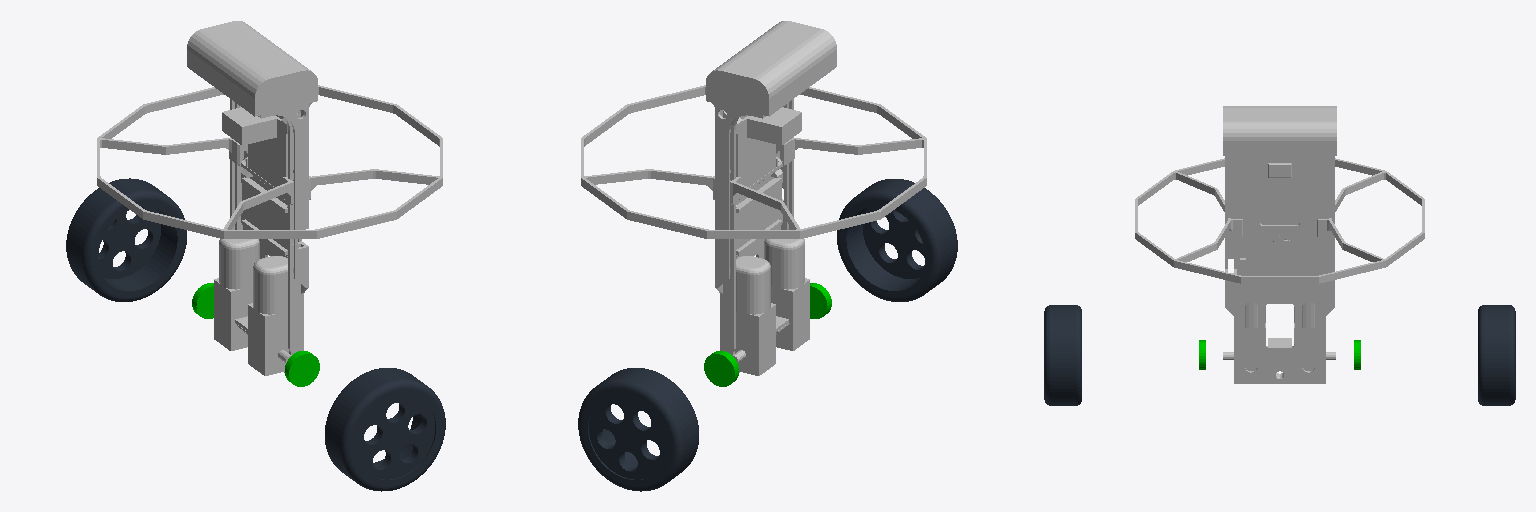
The robot description file, URDF, robot "balancio":
<?xml version="1.0" ?>
<robot name="balancio" xmlns:xacro="http://www.ros.org/wiki/xacro">

  <material name="black">
    <color rgba="0.0 0.0 0.0 0.8"/>
  </material>
  <material name="blue">
    <color rgba="0.203125 0.23828125 0.28515625 0.8"/>
  </material>
  <material name="green">
    <color rgba="0.0 0.8 0.0 0.8"/>
  </material>
  <material name="grey">
    <color rgba="0.8 0.8 0.8 1.0"/>
  </material>
  <material name="orange">
    <color rgba="1.0 0.423529411765 0.0392156862745 1.0"/>
  </material>
  <material name="brown">
    <color rgba="0.870588235294 0.811764705882 0.764705882353 1.0"/>
  </material>
  <material name="red">
    <color rgba="0.80078125 0.12890625 0.1328125 1.0"/>
  </material>
  <material name="white">
    <color rgba="1.0 1.0 1.0 1.0"/>
  </material>


 <!-- Base -->
	<!-- <link name="dummy_link"/>

  <joint name="base_joint" type="fixed">
    <origin rpy="0 0 0" xyz="0 0 0"/>
		<child link="link_chassis"/>
    <parent link="dummy_link"/>
  </joint> -->

  <link name="link_chassis">
    <!-- pose and inertial -->
    <pose>0 0 0 0 0 0</pose>
    <inertial>
      <mass value="0.259"/>
      <origin rpy="0 0 0" xyz="1.5e-3 0 0.0642"/>
      <inertia ixx="1.172e-3" ixy="2.351e-8" ixz="3.338e-5" iyy="1.091e-3" iyz="-4.0054e-7" izz="2.277e-4"/>
    </inertial>
    <!-- body -->
    <collision name="collision_chassis">
      <origin rpy="0 0 0" xyz="0 0 0"/>
      <geometry>
        <!-- <box size="0.01 0.07 0.3"/> -->
        <mesh filename="package://Code/Simulation/stl/Body.stl" scale="1 1 1"/>  <!-- TODO: collision shape box -->
      </geometry>
    </collision>
    <visual>
      <origin rpy="0 0 0" xyz="0 0 0"/>
      <geometry>
        <!-- <box size="0.01 0.07 0.3"/> -->
        <mesh filename="package://Code/Simulation/stl/Body.stl" scale="1 1 1"/>
      </geometry>
      <material name="grey"/>
    </visual>
  </link>


<!--Gearbox and Wheels -->
<!-- Left -->

  <joint name="joint_left_gb" type="continuous">
    <origin rpy="0 0 0" xyz="0 0.0316 -0.0422"/>
    <child link="link_left_gb"/>
    <parent link="link_chassis"/>
    <axis rpy="0 0 0" xyz="0 1 0"/>
    <!-- <limit effort="0.8" velocity="30"/> -->
    <dynamics damping="0" friction="0"/>  <!-- Friction implemented in pybullet-->
  </joint>

  <link name="link_left_gb">
    <inertial>
      <mass value="0.001"/>
      <origin rpy="0 0 0" xyz="0 0 0"/>
      <inertia ixx="1.272e-7" ixy="0" ixz="0" iyy="2.247e-7" iyz="0" izz="1.272e-7"/>
    </inertial>
    <collision name="link_left_gb_collision">
      <origin rpy="0 1.5707 1.5707" xyz="0 0.02 0"/>
      <geometry>
        <cylinder length="0.005" radius="0.01"/>
      </geometry>
    </collision>
    <visual name="link_left_gb_visual">
      <origin rpy="0 1.5707 1.5707" xyz="0 0.02 0"/>
      <geometry>
        <cylinder length="0.005" radius="0.01"/>
      </geometry>
      <material name="green"/>
    </visual>
  </link>

  <joint name="joint_left_wheel" type="revolute">
    <limit lower="-0.03055" upper="0.03055" />
    <origin rpy="0 0 0" xyz="0 0 0"/>
    <child link="link_left_wheel"/>
    <parent link="link_left_gb"/>
    <axis rpy="0 0 0" xyz="0 1 0"/>
    <!-- <limit effort="0.8" velocity="30"/> -->
    <dynamics damping="0" friction="0"/>  <!-- Friction implemented in pybullet-->
  </joint>

  <link name="link_left_wheel">
    <inertial>
      <mass value="0.029"/>
      <origin rpy="0 0 0" xyz="0 0.0142 0"/>
      <inertia ixx="1.272e-5" ixy="0" ixz="0" iyy="2.247e-5" iyz="0" izz="1.272e-5"/>
    </inertial>
    <collision name="link_left_wheel_collision">
      <origin rpy="3.14159 0 1.5707" xyz="0 0.1 0"/>
      <geometry>
        <!-- <cylinder length="0.005" radius="0.02"/> -->
        <mesh filename="package://Code/Simulation/stl/Wheel.stl" scale="1 1 1"/>
      </geometry>
    </collision>
    <visual name="link_left_wheel_visual">
      <origin rpy="3.14159 0 1.5707" xyz="0 0.1 0"/>
      <geometry>
        <!-- <cylinder length="0.005" radius="0.02"/> -->
        <mesh filename="package://Code/Simulation/stl/Wheel.stl" scale="1 1 1"/>
      </geometry>
      <material name="blue"/>
    </visual>
  </link>


<!-- Right -->

  <joint name="joint_right_gb" type="continuous">
    <origin rpy="0 0 0" xyz="0 -0.0316 -0.0422"/>
    <child link="link_right_gb"/>
    <parent link="link_chassis"/>
    <axis rpy="0 0 0" xyz="0 1 0"/>
    <!-- <limit effort="0.8" velocity="30"/> -->
    <dynamics damping="0" friction="0"/>  <!-- Friction implemented in pybullet-->
  </joint>

  <link name="link_right_gb">
    <inertial>
      <mass value="0.001"/>
      <origin rpy="0 0 0" xyz="0 0 0"/>
      <inertia ixx="1.272e-7" ixy="0" ixz="0" iyy="2.247e-7" iyz="0" izz="1.272e-7"/>
    </inertial>
    <collision name="link_right_gb_collision">
      <origin rpy="0 1.5707 1.5707" xyz="0 -0.02 0"/>
      <geometry>
        <cylinder length="0.005" radius="0.01"/>
      </geometry>
    </collision>
    <visual name="link_right_gb_visual">
      <origin rpy="0 1.5707 1.5707" xyz="0 -0.02 0"/>
      <geometry>
        <cylinder length="0.005" radius="0.01"/>
      </geometry>
      <material name="green"/>
    </visual>
  </link>

  <joint name="joint_right_wheel" type="revolute">
    <limit lower="-0.03055" upper="0.03055" />
    <origin rpy="0 0 0" xyz="0 0 0"/>
    <child link="link_right_wheel"/>
    <parent link="link_right_gb"/>
    <axis rpy="0 0 0" xyz="0 1 0"/>
		<!-- <limit effort="0.8" velocity="30"/> -->
    <dynamics damping="0" friction="0"/>  <!-- Friction implemented in pybullet-->
  </joint>

  <link name="link_right_wheel">
    <inertial>
      <mass value="0.029"/>
      <origin rpy="0 0 0" xyz="0 -0.0142 0"/>
      <inertia ixx="1.272e-5" ixy="0" ixz="0" iyy="2.247e-5" iyz="0" izz="1.272e-5"/>
    </inertial>
    <collision name="link_right_wheel_collision">
      <origin rpy="0 0 -1.5707" xyz="0 -0.1 0"/>
      <geometry>
        <!-- <cylinder length="0.005" radius="0.02"/> -->
        <mesh filename="package://Code/Simulation/stl/Wheel.stl" scale="1 1 1"/>
      </geometry>
    </collision>
    <visual name="link_right_wheel_visual">
      <origin rpy="0 0 -1.5707" xyz="0 -0.1 0"/>
      <geometry>
        <!-- <cylinder length="0.005" radius="0.02"/> -->
        <mesh filename="package://Code/Simulation/stl/Wheel.stl" scale="1 1 1"/>
      </geometry>
      <material name="blue"/>
    </visual>
  </link>

</robot>

--- What the picture shows (computed from the rendered views, not written in the file) ---
Views: 3 orthographic renders of the robot side by side, from view 1: azimuth 30°, elevation 25°; view 2: azimuth 150°, elevation 25°; view 3: azimuth 270°, elevation 25°.
Model balancio with 5 links and 4 joints (2 revolute, 2 continuous), rooted at link_chassis, posed all joints at 0.
Links seen in each view (by area): view 1: link_chassis, link_right_wheel, link_left_wheel, link_right_gb, link_left_gb; view 2: link_chassis, link_left_wheel, link_right_wheel, link_left_gb, link_right_gb; view 3: link_chassis, link_left_wheel, link_right_wheel.
Link boxes in pixels (bbox=[...]): link_chassis: bbox=[97, 21, 442, 375]; link_right_wheel: bbox=[325, 368, 445, 491]; link_left_wheel: bbox=[66, 178, 186, 301]; link_right_gb: bbox=[285, 351, 319, 386]; link_left_gb: bbox=[192, 283, 213, 318]; link_chassis: bbox=[581, 21, 926, 375]; link_left_wheel: bbox=[578, 368, 698, 491]; link_right_wheel: bbox=[837, 179, 957, 301]; link_left_gb: bbox=[704, 351, 738, 386]; link_right_gb: bbox=[810, 283, 831, 318]; link_chassis: bbox=[1135, 106, 1424, 383]; link_left_wheel: bbox=[1478, 305, 1515, 405]; link_right_wheel: bbox=[1044, 305, 1081, 405].
Size in the robot's own frame: 0.1932 by 0.3132 by 0.2094 metres.
3 mesh visuals loaded from 2 distinct referenced files (2 binary STL).